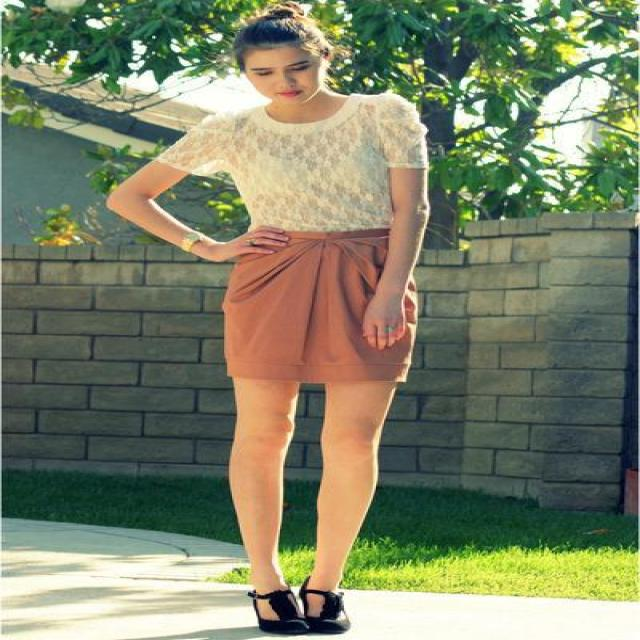shirt: (134, 90, 430, 230)
shoe: (250, 576, 344, 635)
skirt: (222, 227, 416, 396)
